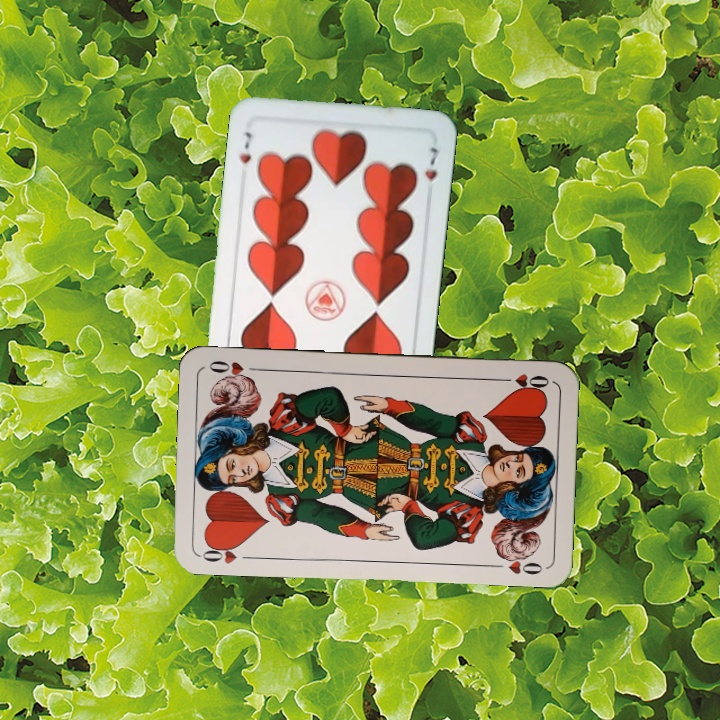H7: (236, 127, 255, 167)
HO: (198, 539, 256, 566), (494, 370, 552, 393)
